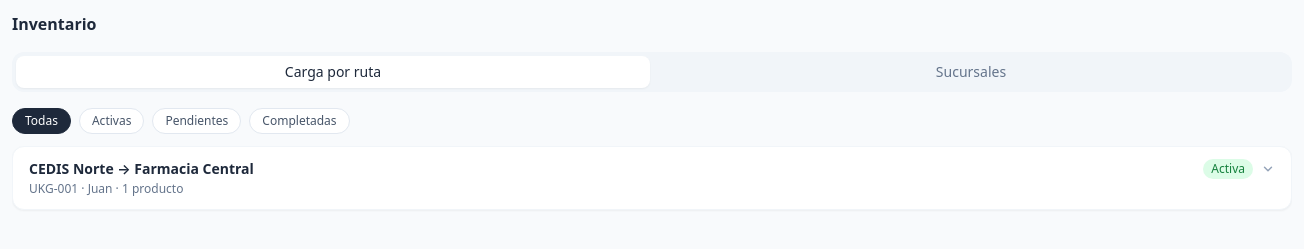
Inventory page › shows empty state when filter has no matches
Expected: the button "Todas" is shown, [12,108,71,134]
// Filter to PENDING — no routes match since all are ACTIVE
Click the button "Pendientes".
click(197, 121)  # box [152,108,241,134]
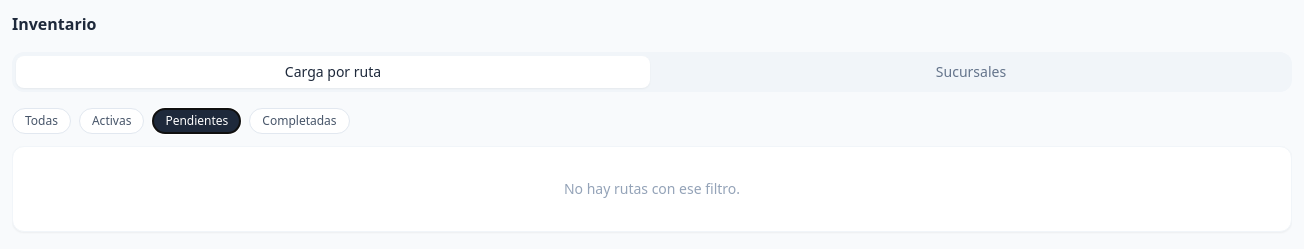
Now the text "No hay rutas con ese filtro." is shown, box [12,146,1292,232]
